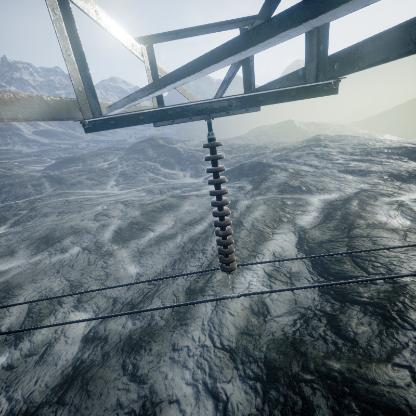insulator: (201, 132, 238, 273)
